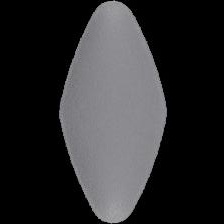49702-204: (0, 0, 224, 224)
